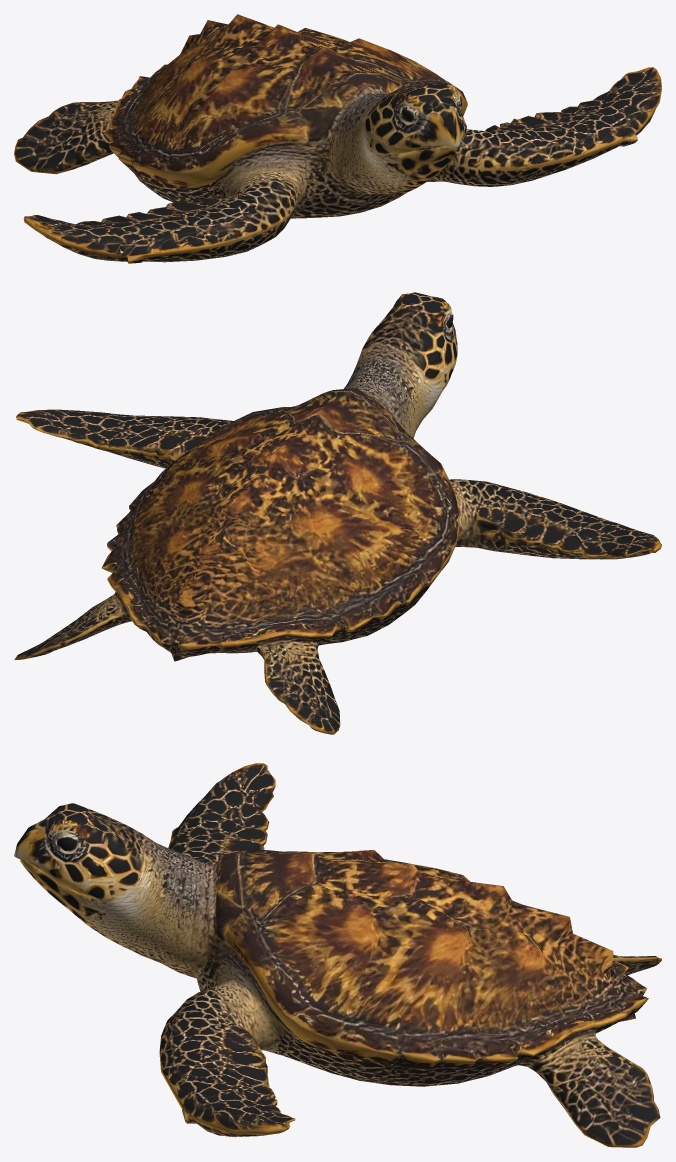
File: karet.glb
3 views of the same model, one above another, from view 1: azimuth 30°, elevation 25°; view 2: azimuth 150°, elevation 25°; view 3: azimuth 270°, elevation 25° (orthographic). The views are drawn at different scales.
Parts seen in each view (by area): view 1: tripo_node_8f256768-8337-44f1-a193-bcd19ccd93b3; view 2: tripo_node_8f256768-8337-44f1-a193-bcd19ccd93b3; view 3: tripo_node_8f256768-8337-44f1-a193-bcd19ccd93b3.
Part boxes in pixels (x1,y1,x2,y2): tripo_node_8f256768-8337-44f1-a193-bcd19ccd93b3: (14,14,661,263); tripo_node_8f256768-8337-44f1-a193-bcd19ccd93b3: (14,292,661,734); tripo_node_8f256768-8337-44f1-a193-bcd19ccd93b3: (14,763,661,1147).
Size of the model in its own units: 2.39 by 0.8 by 1.88.
Materials: 1 (1 with a texture image).
